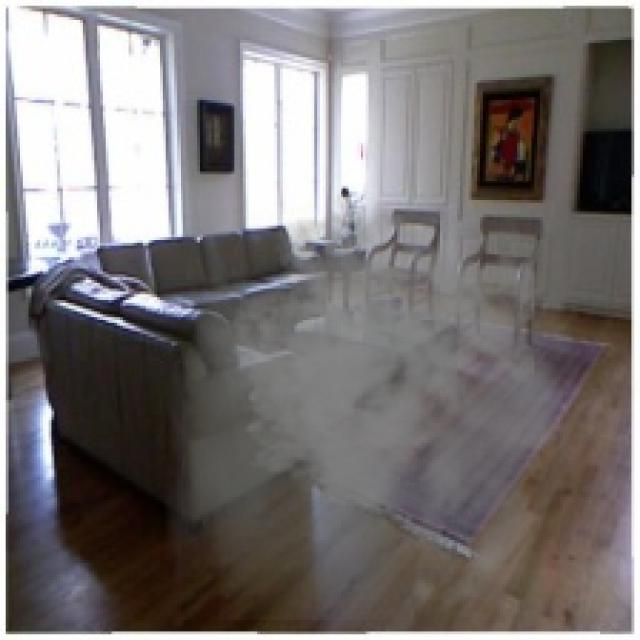smoke: (166, 194, 580, 620)
